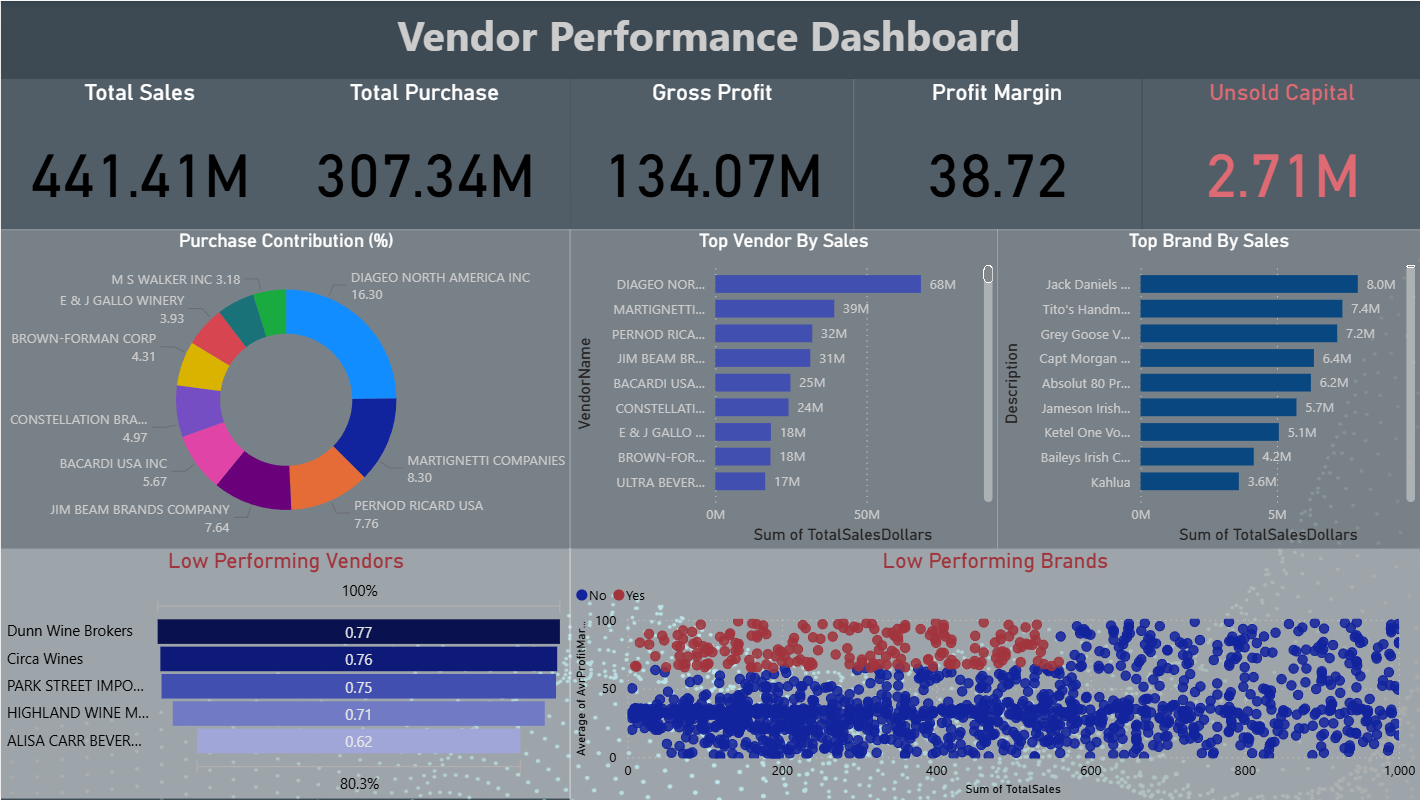

The dashboard page shown, as its layout file describes it:
{"tool":"powerbi","page":{"name":"Page 1","canvas":[1280,720],"ordinal":0},"visuals":[{"type":"textbox","box":[323.3,0,630,70],"z":0},{"type":"card","title":"Total Sales","fields":{"Values":["vendor_sales_summary.TotalSalesDollars"]},"box":[0,70,250,136.7],"z":1000},{"type":"card","title":"Total Purchase","fields":{"Values":["vendor_sales_summary.TotalPurchaseDollars"]},"box":[250,70,263.3,136.7],"z":2000},{"type":"card","title":"Gross Profit","fields":{"Values":["vendor_sales_summary.GrossProfit"]},"box":[513.3,70,255,136.7],"z":3000},{"type":"card","title":"Profit Margin","fields":{"Values":["vendor_sales_summary.ProfitMargin"]},"box":[768.3,70,260,136.7],"z":4000},{"type":"card","title":"Unsold Capital","fields":{"Values":["vendor_sales_summary.UnsoldCapital"]},"box":[1028.3,70,251.7,136.7],"z":5000},{"type":"donutChart","title":"Purchase Contribution (%)","fields":{"Category":["PurchaseContribution.VendorName"],"Y":["PurchaseContribution.PurchaseContribution%"]},"box":[0,205.9,513.3,287.7],"z":6000},{"type":"barChart","title":"Top Vendor By Sales","fields":{"Category":["vendor_sales_summary.VendorName"],"Y":["vendor_sales_summary.TotalSalesDollars"]},"box":[511.8,205.9,386.1,287.7],"z":7000},{"type":"barChart","title":"Top Brand By Sales","fields":{"Category":["vendor_sales_summary.Description"],"Y":["vendor_sales_summary.TotalSalesDollars"]},"box":[897.9,205.9,381.6,287.7],"z":8000},{"type":"funnel","title":"Low Performing Vendors","fields":{"Category":["LowTurnoverVendor.VendorName"],"Y":["LowTurnoverVendor.AvrStockTurnOver"]},"box":[0,493.6,513.3,225.6],"z":9000},{"type":"scatterChart","title":"Low Performing Brands","fields":{"Category":["BrandPerformance.Description"],"X":["BrandPerformance.TotalSales"],"Y":["BrandPerformance.AvrProfitMargin"],"Series":["BrandPerformance.TargetBrand"]},"box":[512.1,493.2,767.2,226.8],"z":10000}]}

Visuals, with their boxes in screenshot pixels (x1, y1, x2, y2), scaled from the page's 1280x720 canvas onto the 1420x800 screenshot:
textbox: (359, 0, 1058, 78)
"Total Sales" card: (0, 78, 277, 230)
"Total Purchase" card: (277, 78, 569, 230)
"Gross Profit" card: (569, 78, 852, 230)
"Profit Margin" card: (852, 78, 1141, 230)
"Unsold Capital" card: (1141, 78, 1419, 230)
"Purchase Contribution (%)" donutChart: (0, 229, 569, 548)
"Top Vendor By Sales" barChart: (568, 229, 996, 548)
"Top Brand By Sales" barChart: (996, 229, 1419, 548)
"Low Performing Vendors" funnel: (0, 548, 569, 799)
"Low Performing Brands" scatterChart: (568, 548, 1419, 799)
